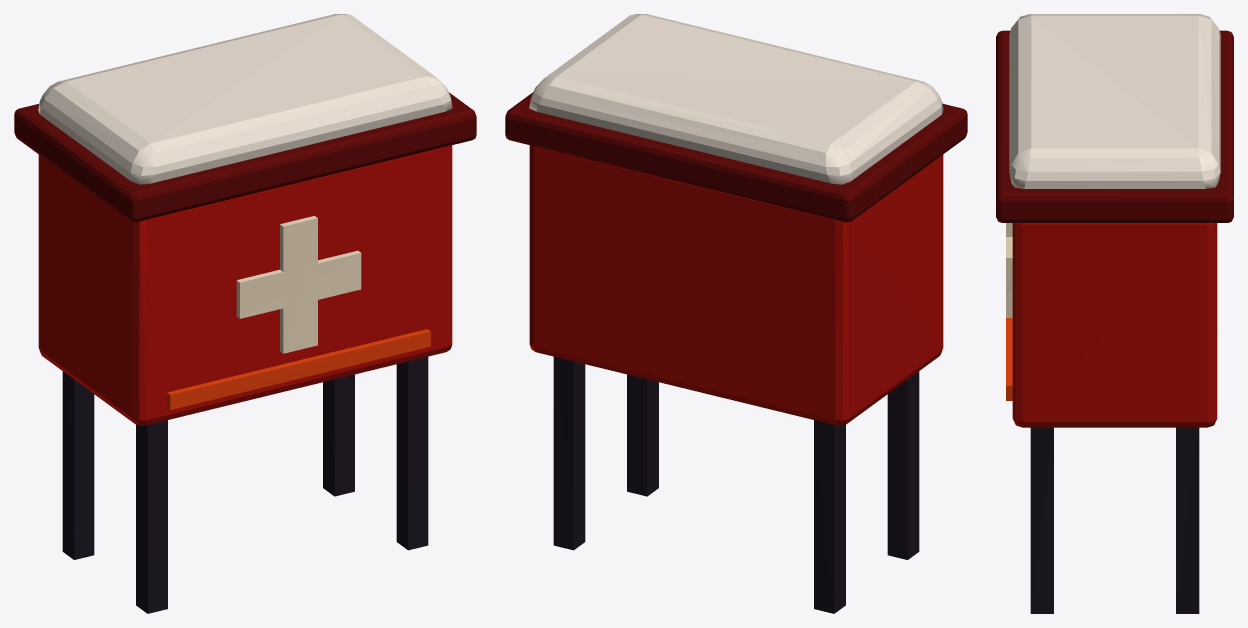
File: rs_cache.glb
3 renders of one model, left to right at view 1: azimuth 30°, elevation 25°; view 2: azimuth 150°, elevation 25°; view 3: azimuth 270°, elevation 25°, orthographic.
Visible parts, largest first — view 1: rs_cache.001; view 2: rs_cache.001; view 3: rs_cache.001.
Boxes of the visible parts, left/top/right/bottom form: rs_cache.001: left=14, top=14, right=476, bottom=613; rs_cache.001: left=505, top=14, right=967, bottom=613; rs_cache.001: left=996, top=14, right=1233, bottom=613.
Bounding box in the file's own units: 1.2 × 1.55 × 0.72.
